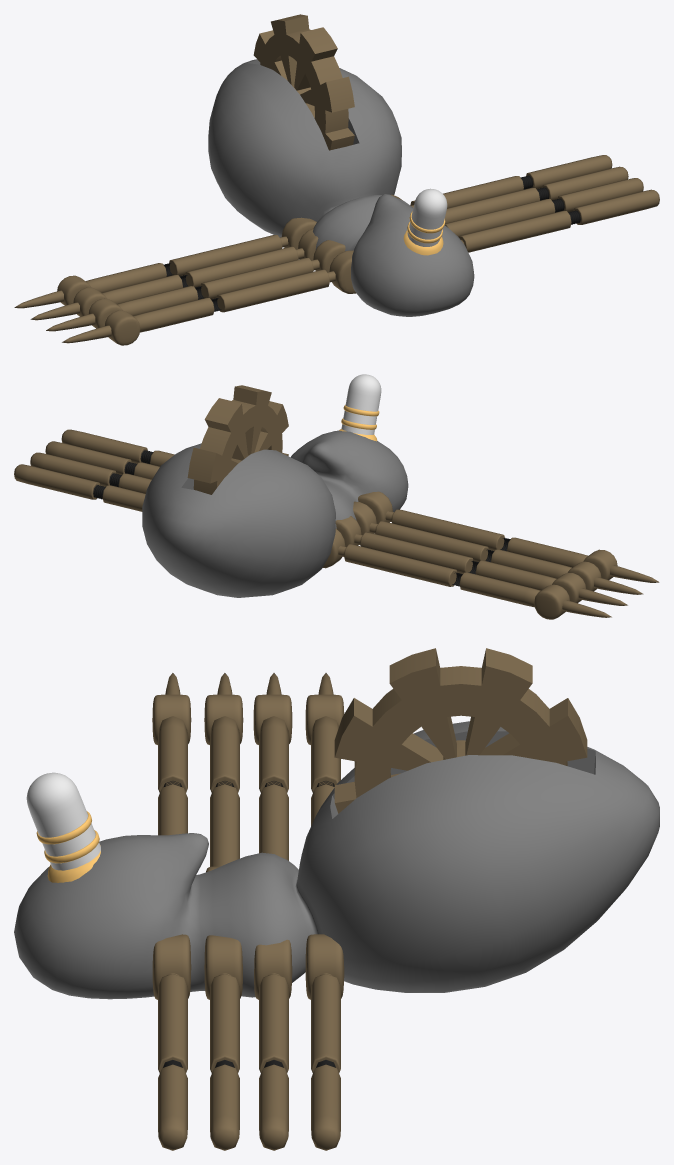
File: MESH.EnemySpider.fbx
3 renders of one model, top to bottom at view 1: azimuth 30°, elevation 25°; view 2: azimuth 150°, elevation 25°; view 3: azimuth 270°, elevation 25°, orthographic. The views are drawn at different scales.
Visible parts, largest first — view 1: SP.Body, SP.Gear, SP.Leg.008, SP.Leg.004, SP.Leg.005, SP.Leg.007, SP.Leg, SP.Leg.006, SP.Leg.002, SP.Leg.003, SP.Light.Bulb, SP.Leg.Hinge.015 (+7 smaller); view 2: SP.Body, SP.Gear, SP.Leg.007, SP.Leg.006, SP.Leg.008, SP.Leg.005, SP.Leg.003, SP.Leg.002, SP.Light.Bulb, SP.Leg.004, SP.Leg, SP.Leg.Hinge.013 (+12 smaller); view 3: SP.Body, SP.Gear, SP.Leg, SP.Leg.002, SP.Leg.003, SP.Leg.004, SP.Leg.005, SP.Light.Bulb, SP.Leg.006, SP.Leg.008, SP.Leg.007, SP.Leg.Hinge.1 (+8 smaller).
Boxes of the visible parts, bbox=[...] form: SP.Body: bbox=[208, 59, 474, 316]; SP.Gear: bbox=[253, 14, 354, 150]; SP.Leg.008: bbox=[133, 269, 335, 332]; SP.Leg.004: bbox=[458, 189, 659, 252]; SP.Leg.005: bbox=[117, 258, 319, 315]; SP.Leg.007: bbox=[86, 235, 288, 292]; SP.Leg: bbox=[444, 178, 643, 236]; SP.Leg.006: bbox=[102, 246, 304, 303]; SP.Leg.002: bbox=[445, 166, 628, 223]; SP.Leg.003: bbox=[410, 155, 612, 208]; SP.Light.Bulb: bbox=[407, 188, 447, 246]; SP.Leg.Hinge.015: bbox=[104, 310, 140, 345]; SP.Body: bbox=[142, 430, 408, 597]; SP.Gear: bbox=[187, 385, 288, 494]; SP.Leg.007: bbox=[338, 544, 540, 607]; SP.Leg.006: bbox=[354, 532, 556, 590]; SP.Leg.008: bbox=[385, 509, 588, 567]; SP.Leg.005: bbox=[369, 521, 571, 578]; SP.Leg.003: bbox=[14, 464, 145, 511]; SP.Leg.002: bbox=[30, 452, 151, 493]; SP.Light.Bulb: bbox=[341, 374, 381, 434]; SP.Leg.004: bbox=[61, 429, 174, 466]; SP.Leg: bbox=[45, 441, 159, 479]; SP.Leg.Hinge.013: bbox=[534, 584, 569, 619]; SP.Body: bbox=[14, 721, 659, 999]; SP.Gear: bbox=[334, 648, 587, 813]; SP.Leg: bbox=[210, 973, 239, 1150]; SP.Leg.002: bbox=[259, 973, 288, 1150]; SP.Leg.003: bbox=[311, 973, 340, 1150]; SP.Leg.004: bbox=[158, 973, 187, 1150]; SP.Leg.005: bbox=[210, 716, 239, 866]; SP.Light.Bulb: bbox=[26, 772, 100, 870]; SP.Leg.006: bbox=[259, 716, 288, 860]; SP.Leg.008: bbox=[158, 716, 187, 835]; SP.Leg.007: bbox=[311, 716, 340, 825]; SP.Leg.Hinge.1: bbox=[204, 935, 242, 999].
Size of the model in its own units: 766 by 243 by 447.
